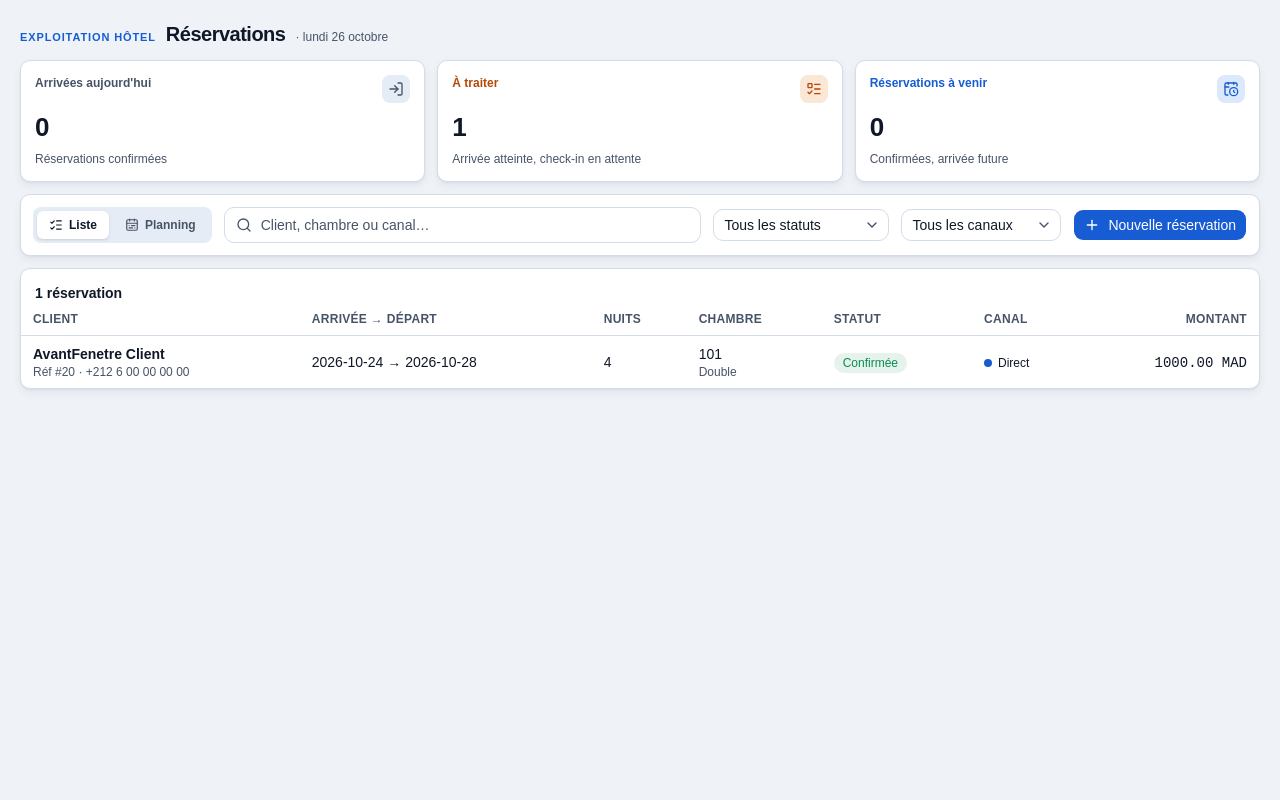
Scenario: ReservationsCalendarPage — panneau contextuel › affiche une erreur propre (pas de crash) si l’annulation échoue côté serveur
Click the button with aria-label "Ouvrir la réservation de AvantFenetre Client" at (77, 354), box [21,336,1259,388]
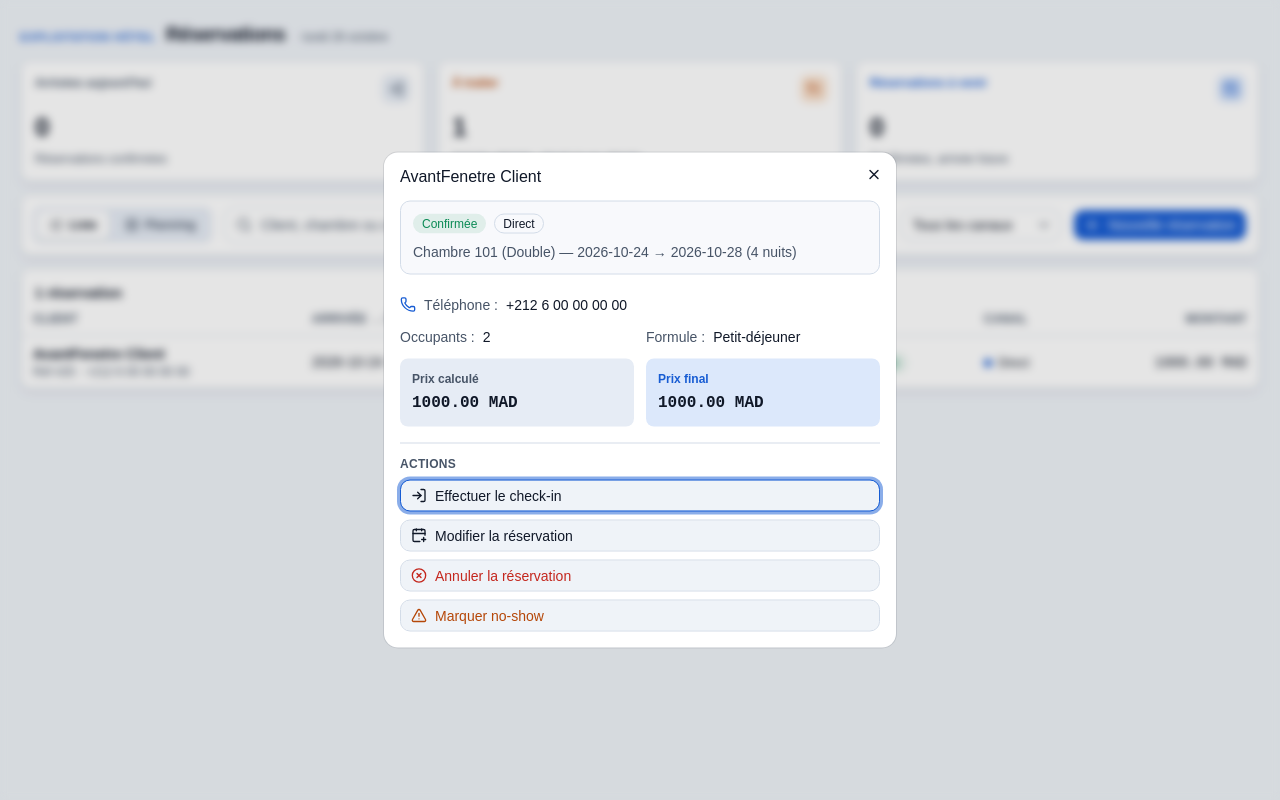
Click the button "Annuler la réservation" at (503, 576), box [400,560,880,592]
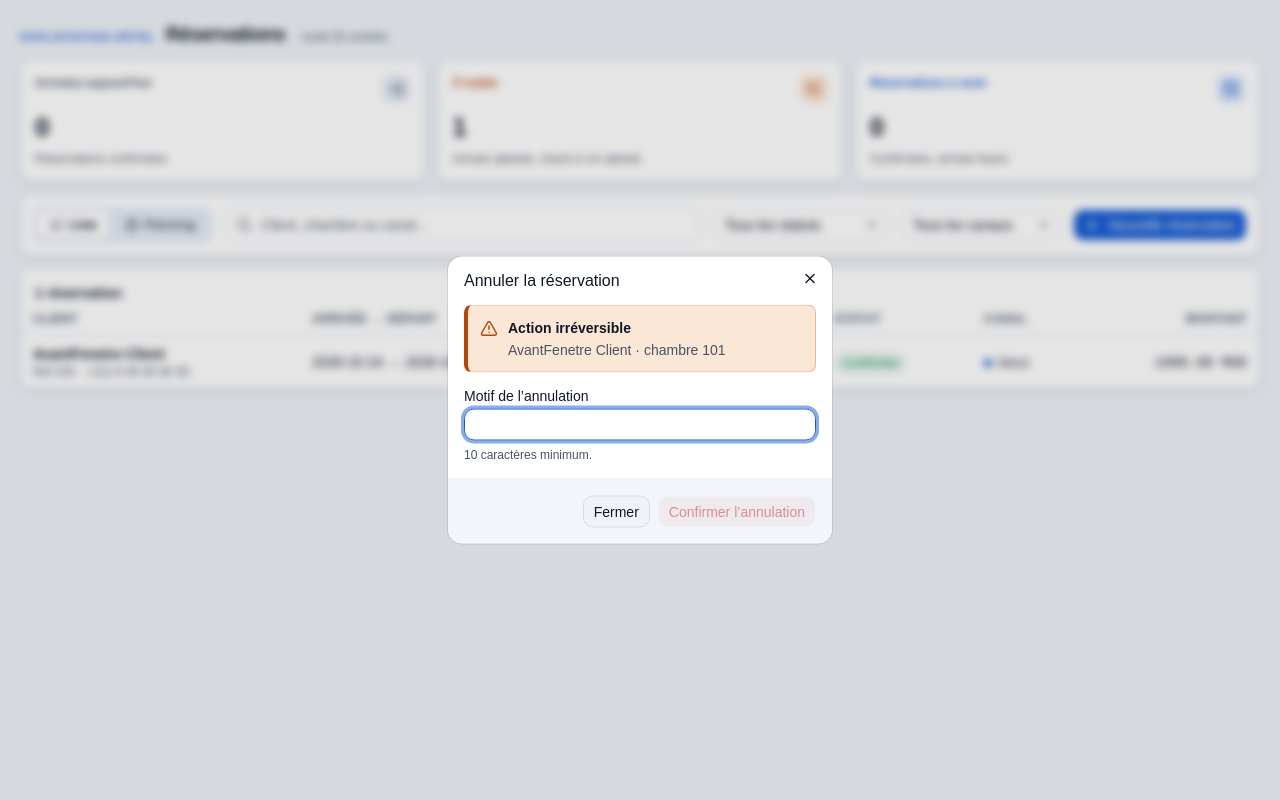
Type "Erreur de saisie client" into the field labelled "Motif de l’annulation" at (640, 424), box [464,408,816,440]
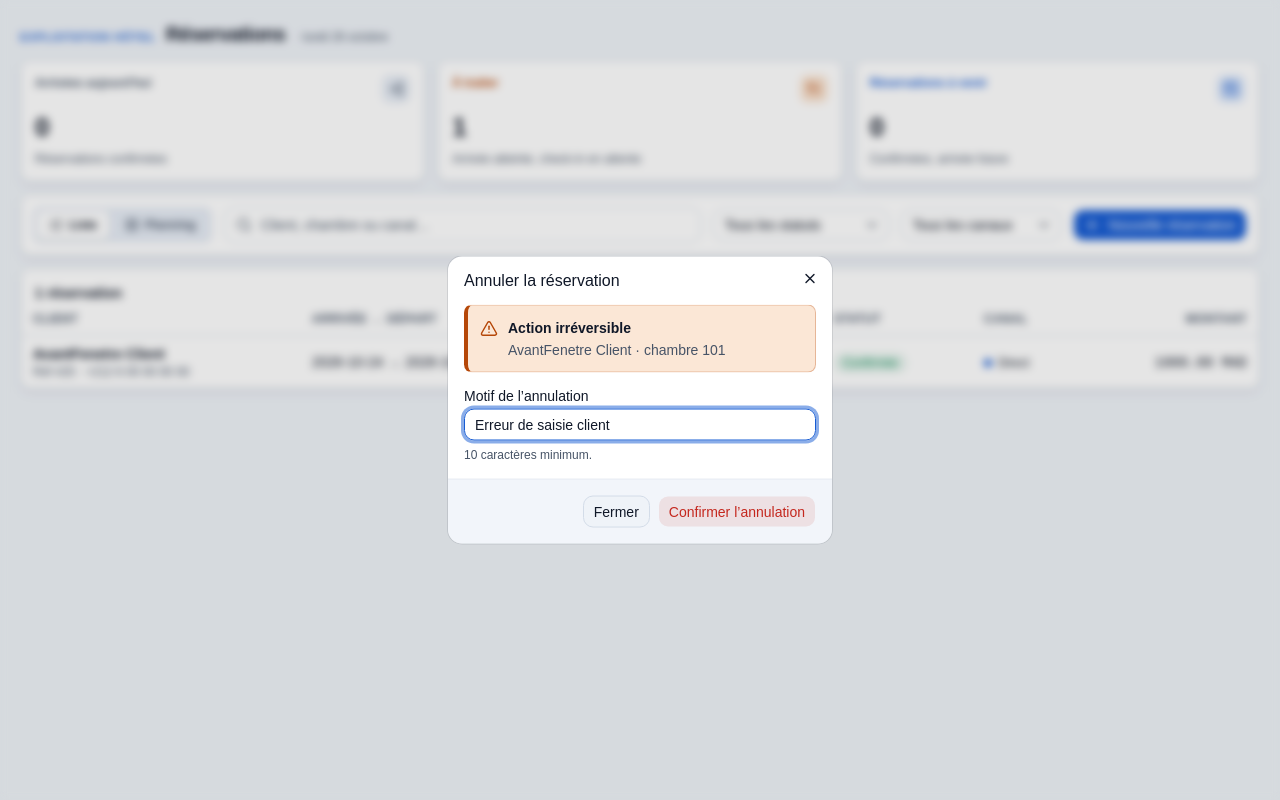
Click the button "Confirmer l’annulation" at (737, 512), box [658,496,816,528]
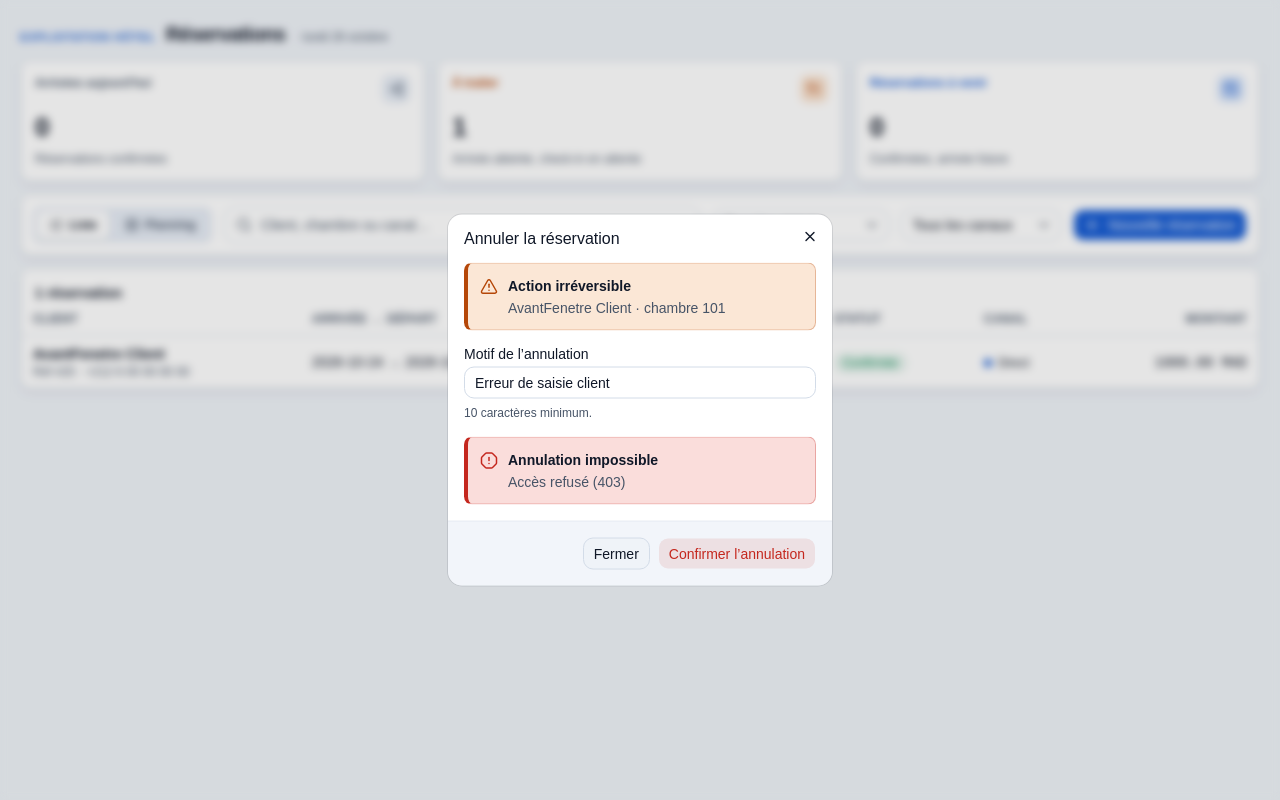
Now the button "Confirmer l’annulation" is shown, box [658,538,816,570]
Now the text "Accès refusé (403)" is shown, box [508,474,626,490]
